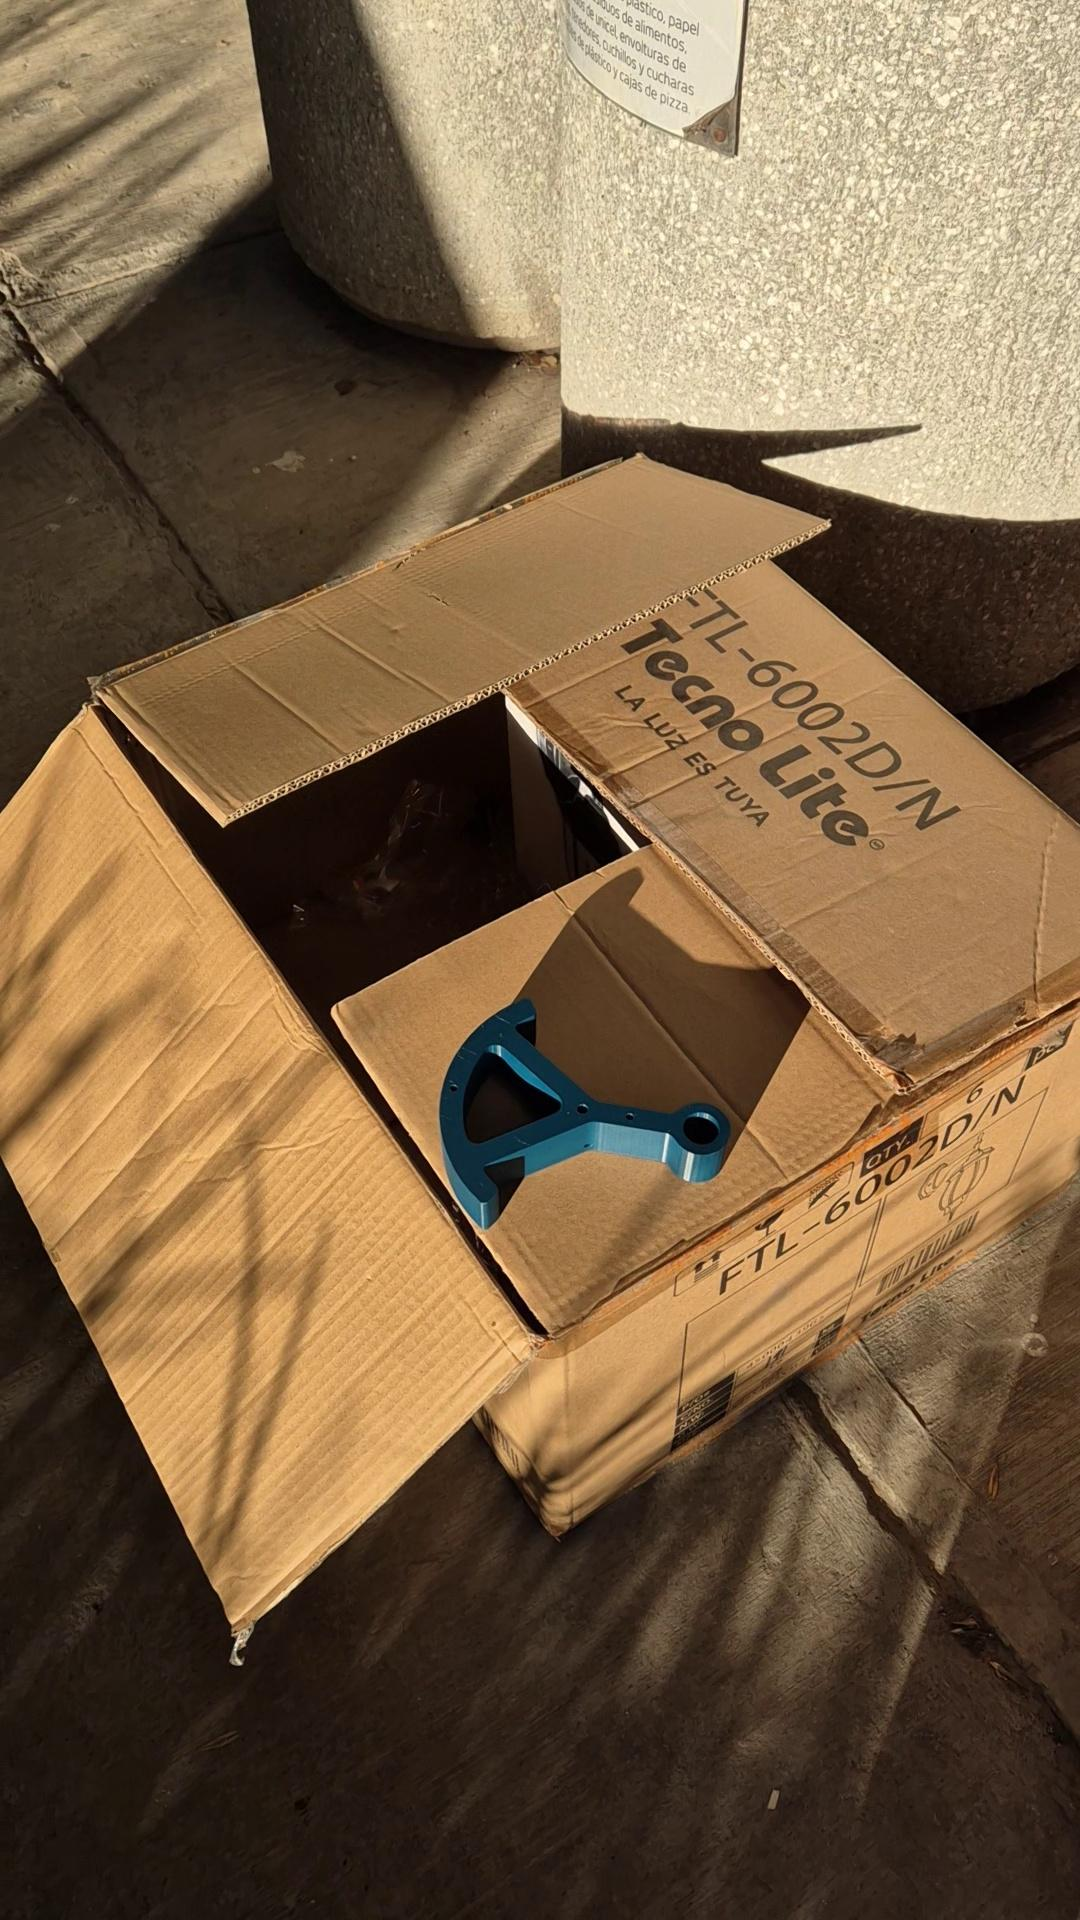Paddles: (435, 997, 732, 1233)
